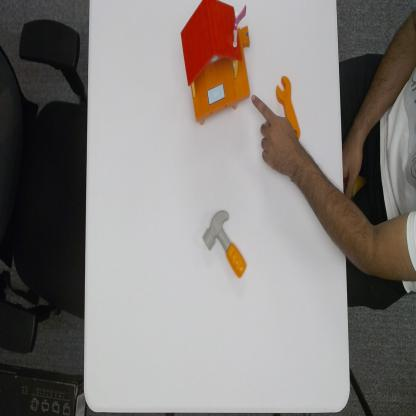Hammer: (202, 208, 248, 280)
Hand: (251, 93, 308, 182)
House: (180, 0, 251, 127)
Screwdriver: (307, 155, 416, 283), (275, 75, 302, 141)
